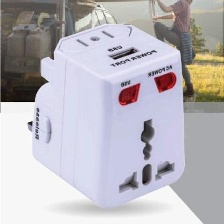three_eye_plug: (25, 14, 191, 213)
